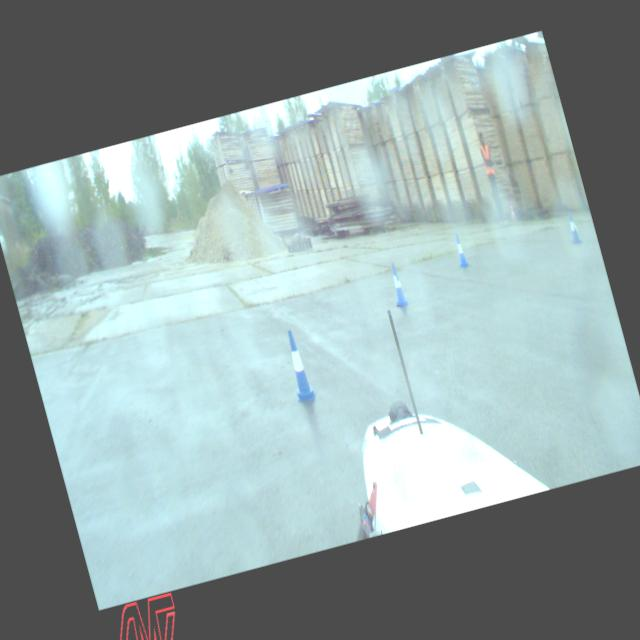blue_cone: (279, 327, 317, 403), (386, 262, 409, 308), (451, 232, 468, 268), (564, 212, 582, 244)
